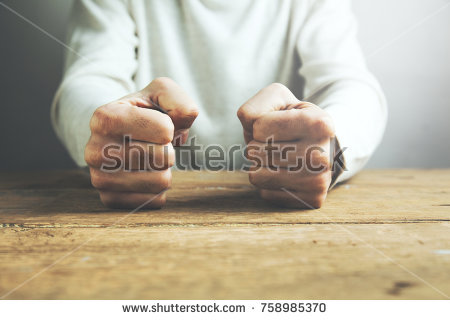fist: (89, 79, 189, 209), (242, 90, 341, 210)
